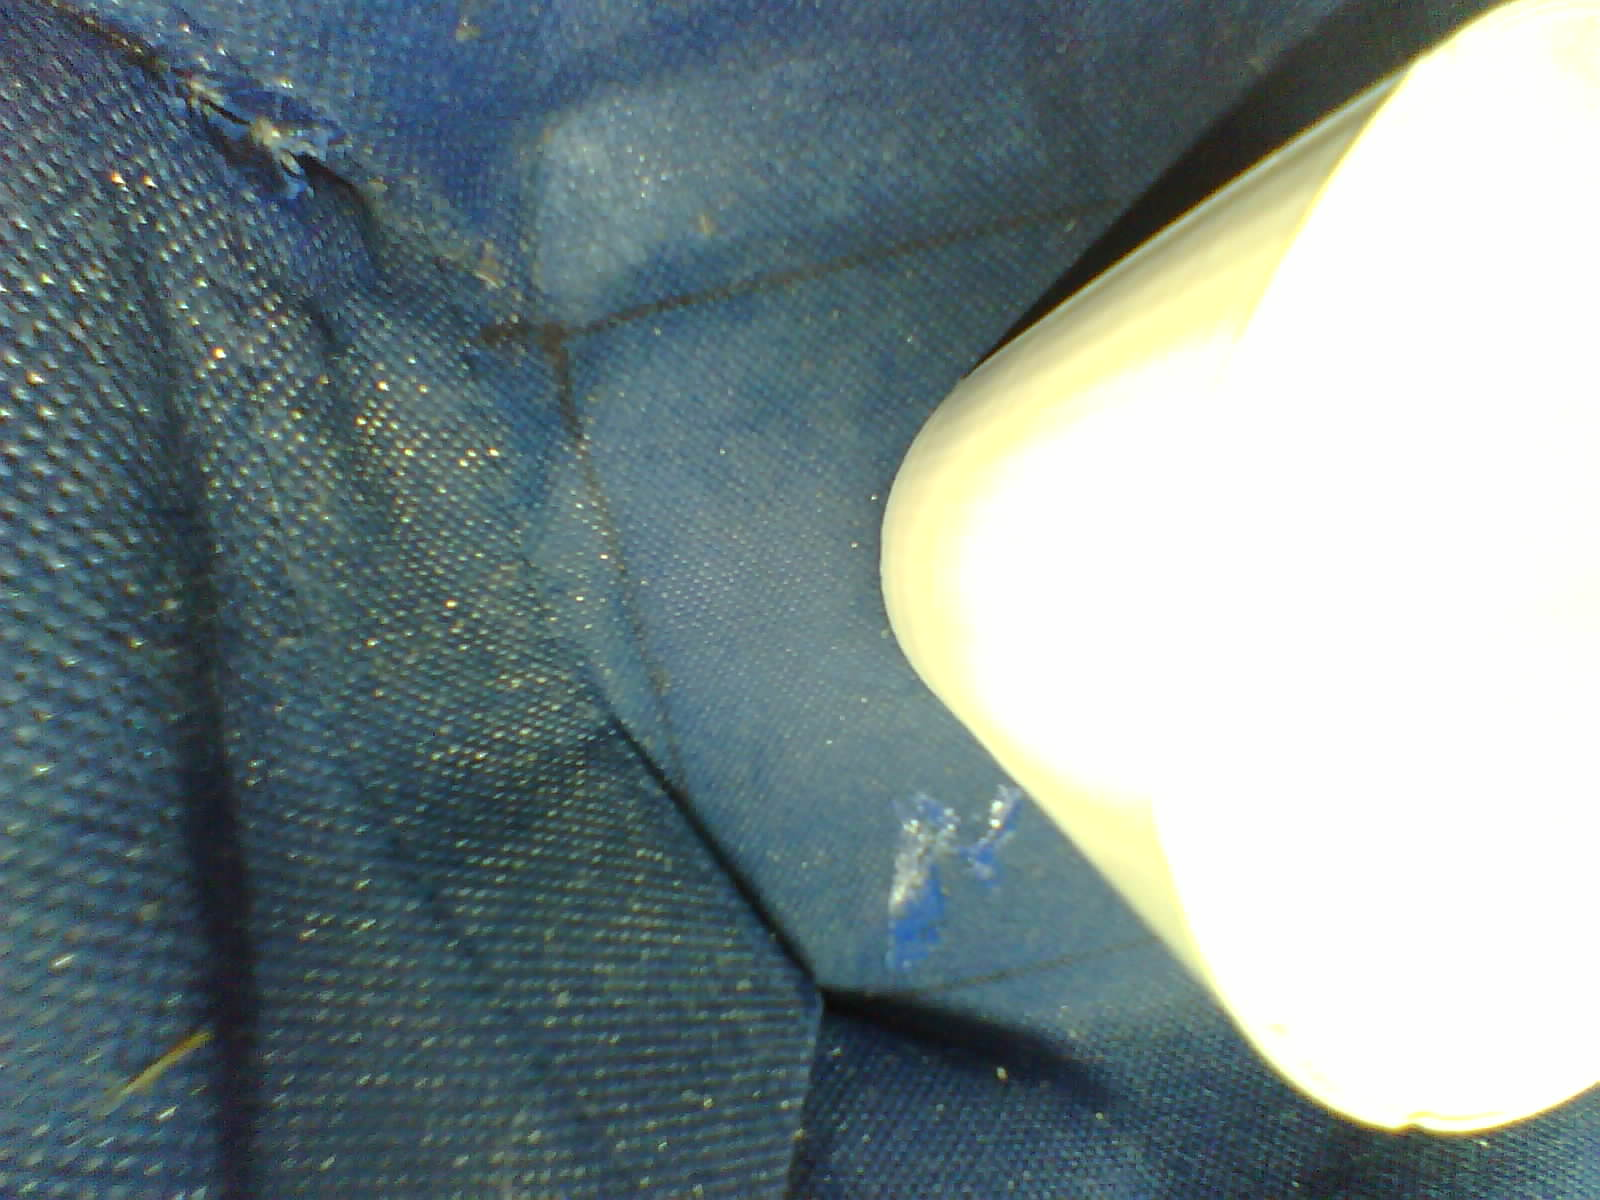cylinder-hard: (850, 0, 1600, 1158)
